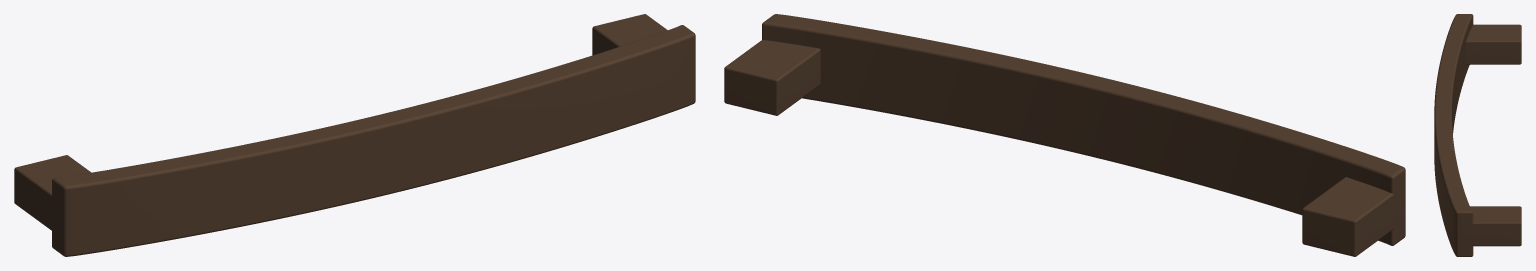
File: eurofit-h-359-128orb.glb
3 renders of one model, left to right at view 1: azimuth 30°, elevation 25°; view 2: azimuth 150°, elevation 25°; view 3: azimuth 270°, elevation 25°, orthographic. The views are drawn at different scales.
Visible parts, largest first — view 1: Sculpted arch grip, Mounting foot, Mounting foot.001; view 2: Sculpted arch grip, Mounting foot, Mounting foot.001; view 3: Sculpted arch grip, Mounting foot.001, Mounting foot.
Part boxes in pixels (x1,y1,x2,y2): Sculpted arch grip: [52, 25, 695, 256]; Mounting foot: [14, 155, 90, 235]; Mounting foot.001: [592, 14, 667, 55]; Sculpted arch grip: [762, 14, 1405, 245]; Mounting foot: [1302, 177, 1401, 256]; Mounting foot.001: [724, 40, 820, 115]; Sculpted arch grip: [1434, 14, 1473, 256]; Mounting foot.001: [1462, 206, 1521, 246]; Mounting foot: [1466, 24, 1521, 64].
Size of the model in its own units: 0.14 by 0.015 by 0.026.
